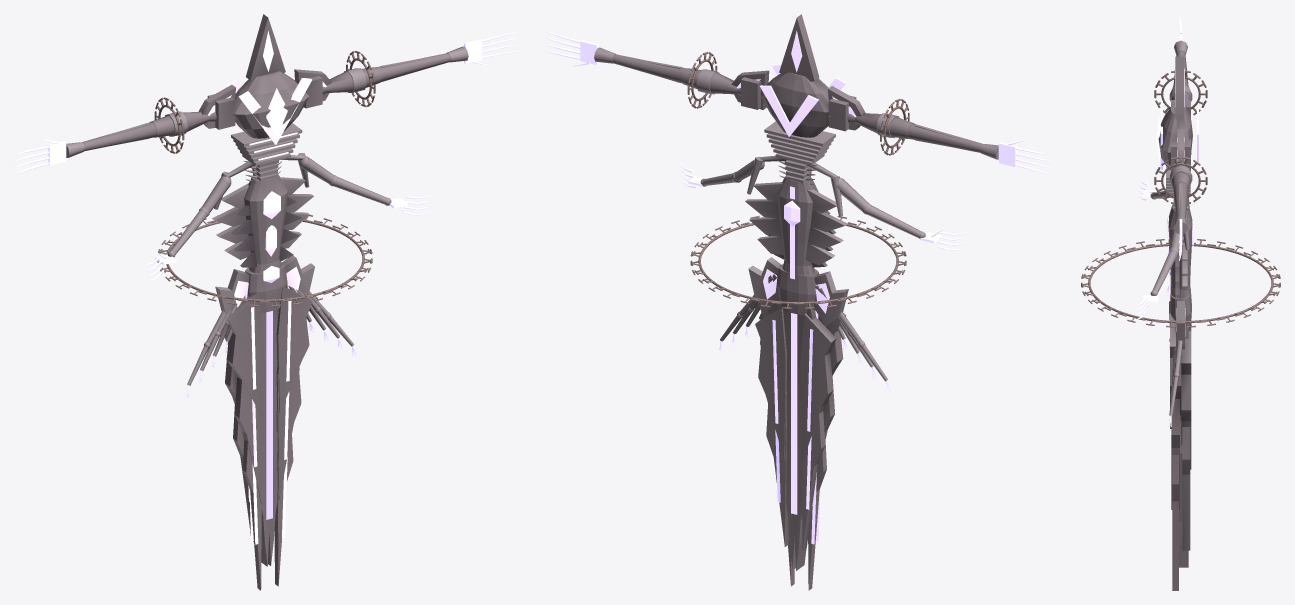
The model's file is irontomb.glb.
3 renders of one model, left to right at view 1: azimuth 30°, elevation 25°; view 2: azimuth 150°, elevation 25°; view 3: azimuth 270°, elevation 25°, orthographic. The views are drawn at different scales.
Parts seen in each view (by area): view 1: irontomb; view 2: irontomb; view 3: irontomb.
Boxes of the visible parts, x1,y1,x2,y2 form: irontomb: (14,14,517,590); irontomb: (546,14,1052,590); irontomb: (1081,14,1280,590).
Size of the model in its own units: 242 by 262 by 89.5.
